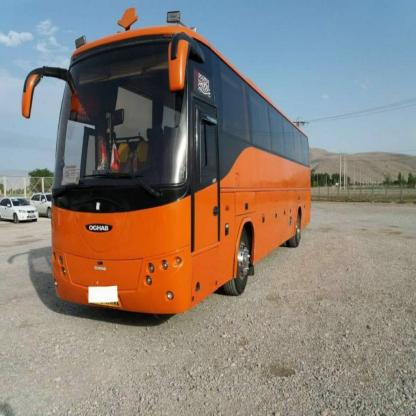Bus: (31, 12, 312, 331)
Car: (0, 191, 36, 228), (31, 193, 58, 217)
